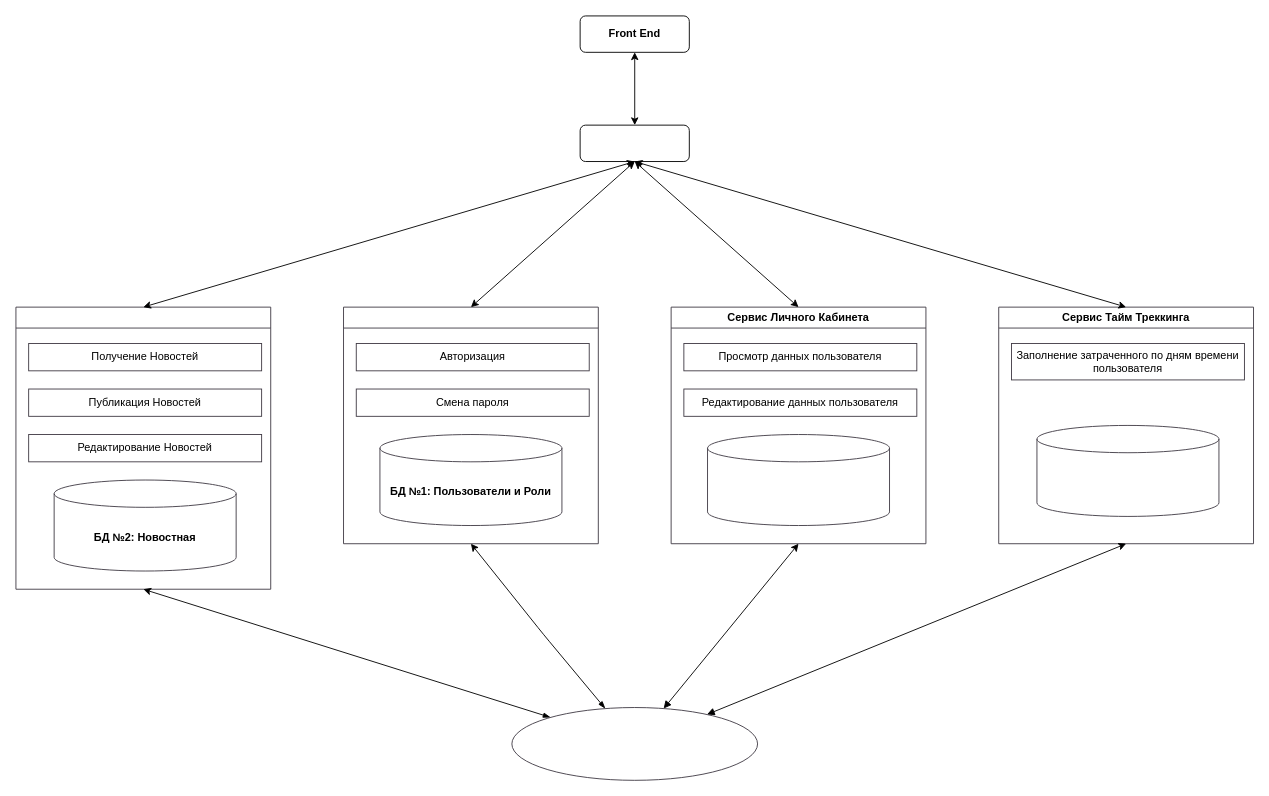
The diagram is 1269 pixels wide and 796 high, and some of its shapes have lost their labels. Each missing label, with the box of its shape:
API GateWay: (579, 124, 689, 162)
Rabbit MQ: (511, 707, 758, 780)
БД №3: Профили Пользователей: (707, 434, 890, 526)
БД №4: Затраченное время: (1036, 425, 1219, 516)
Сервис Авторизации: (343, 306, 598, 544)
Сервис Ленты Новостей: (15, 306, 271, 589)
